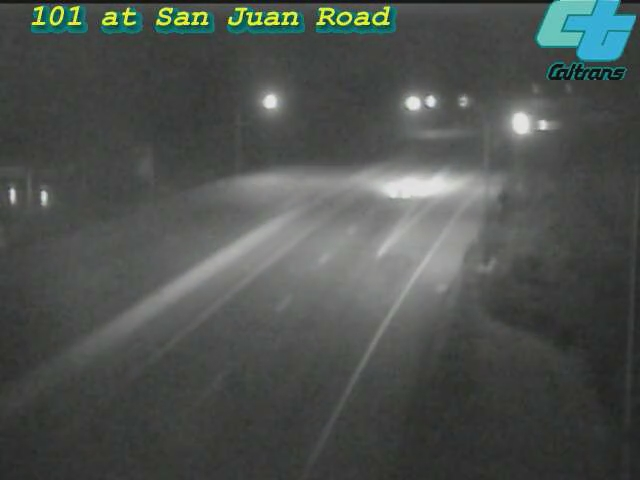vehicle: (363, 149, 443, 229), (518, 101, 568, 151), (496, 100, 546, 150)
